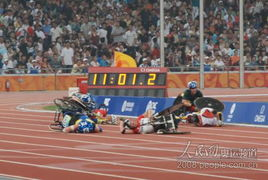10+: (1, 1, 268, 144)
down: (117, 98, 186, 143), (72, 83, 118, 130), (49, 104, 107, 139)
